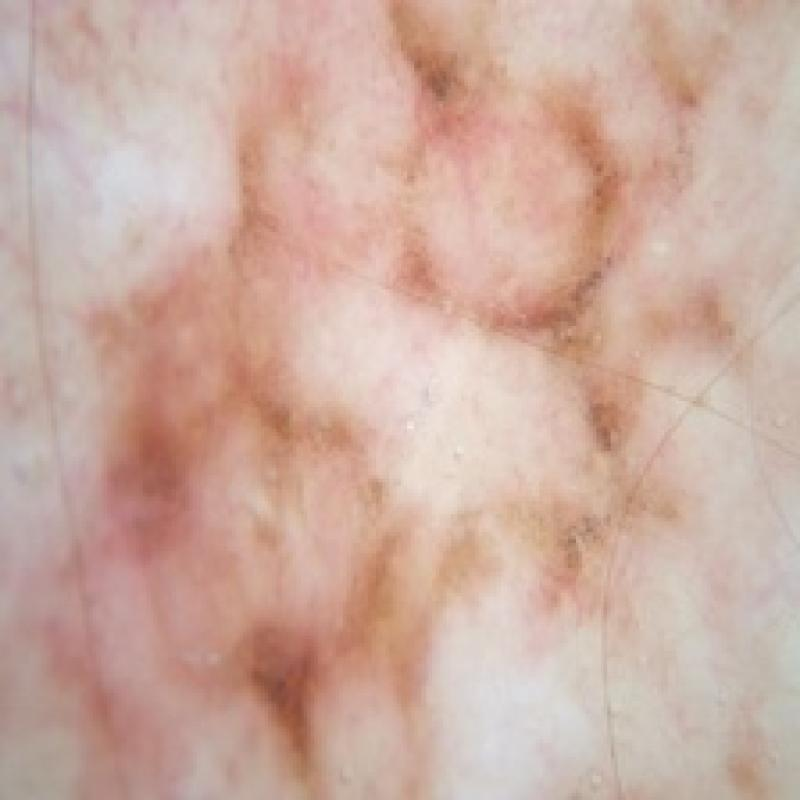malignant: (75, 234, 449, 766), (333, 34, 729, 394), (594, 721, 596, 721)
